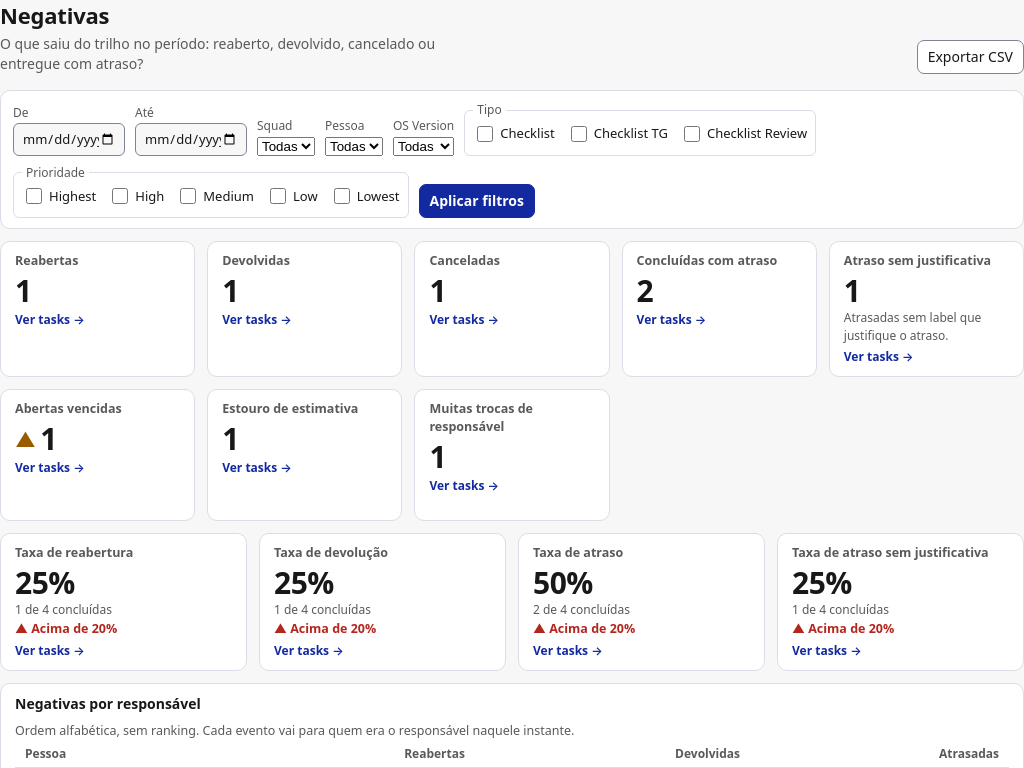
Test case: tela Negativas › taxaAbreOsNumeradores
Click the button "50% 2 de 4 concluídas ▲ Acima de 20% Ver tasks →".
click(642, 613)  # box [533,566,750,660]
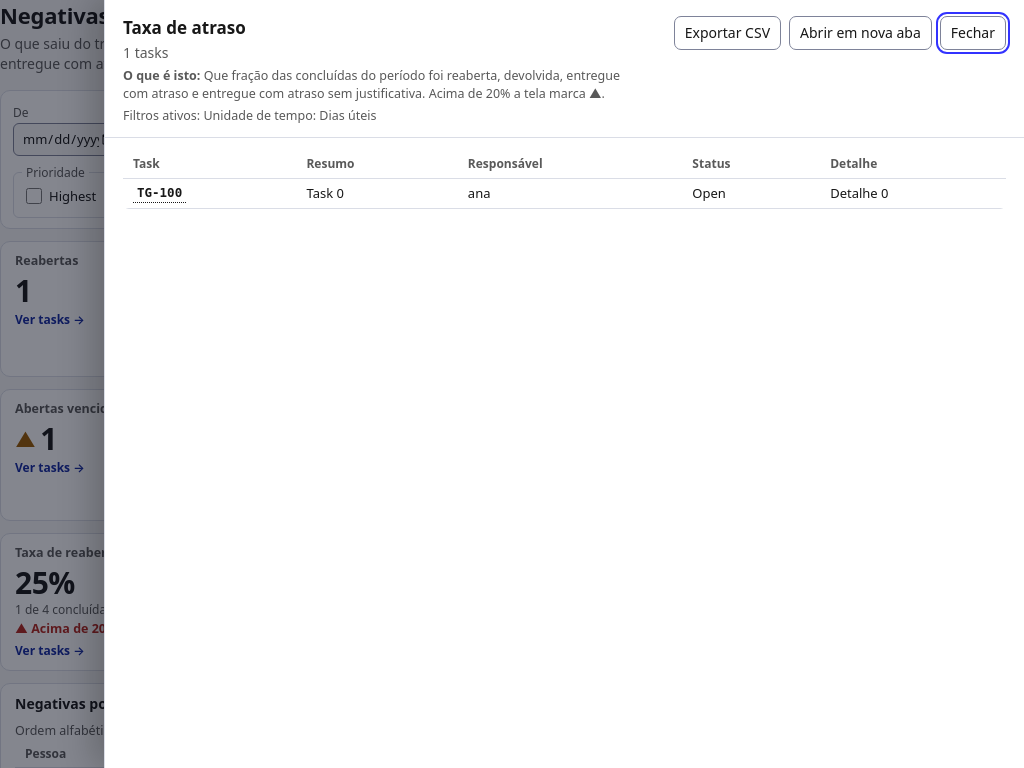
expect the dialog is shown: met
